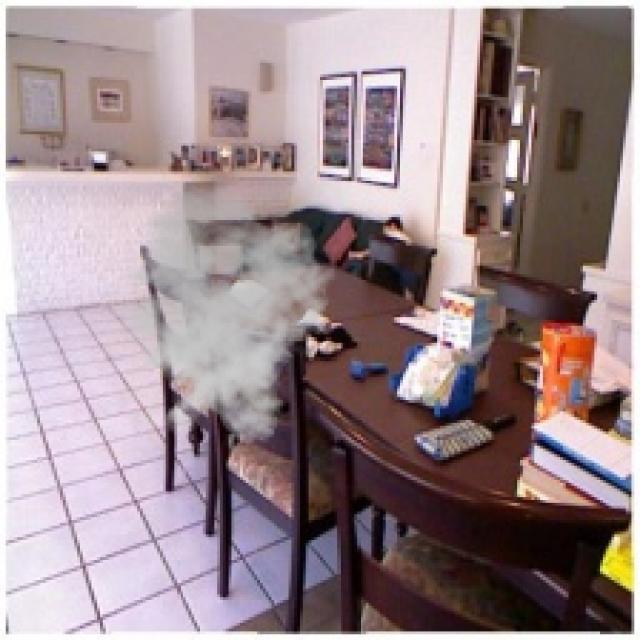Smoke: (100, 186, 343, 446)
